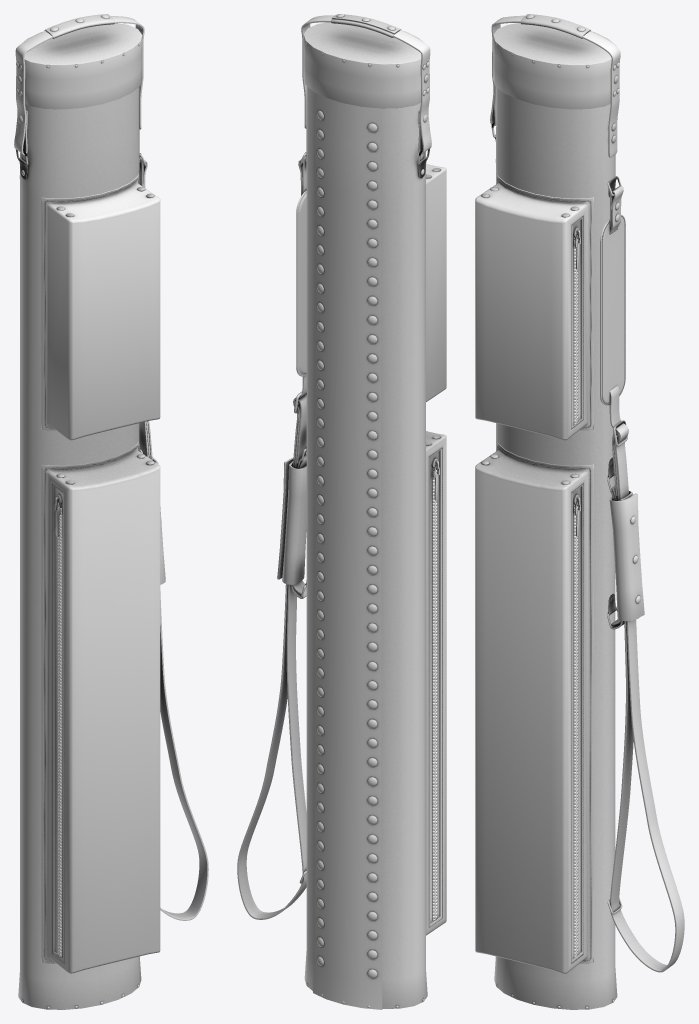
The model's file is 3D Cue Case.glb.
The picture shows the model from 3 angles, left to right: view 1: azimuth 30°, elevation 25°; view 2: azimuth 150°, elevation 25°; view 3: azimuth 330°, elevation 25°; orthographic projection.
Parts seen in each view (by area): view 1: Large_Pocket, Body_part, small_pocket, lid, shoulder_strap, Zip_1, Top_Handle, stich_2, stich_1, Top_handle_Grip; view 2: back_part, Body_part, Large_Pocket, lid, shoulder_strap, Nut, small_pocket, handle_grip, Zip_1, shoulder_strap_01, Top_Handle, stich_2 (+1 smaller); view 3: Large_Pocket, Body_part, small_pocket, shoulder_strap, lid, shoulder_strap_01, handle_grip, Zip, Top_Handle, stich_2, zip, Top_handle_Grip (+1 smaller).
Part boxes in pixels (box(x1,y1,x2,y2)): Large_Pocket: box(41, 441, 160, 973); Body_part: box(18, 87, 141, 1009); small_pocket: box(41, 174, 160, 440); lid: box(22, 23, 142, 109); shoulder_strap: box(139, 157, 208, 920); Zip_1: box(57, 506, 61, 956); Top_Handle: box(14, 16, 144, 155); stich_2: box(51, 483, 64, 963); stich_1: box(44, 446, 138, 961); Top_handle_Grip: box(44, 14, 114, 38); back_part: box(313, 92, 382, 1009); Body_part: box(304, 86, 427, 1008); Large_Pocket: box(426, 431, 446, 935); lid: box(303, 22, 423, 108); shoulder_strap: box(237, 156, 306, 919); Nut: box(317, 110, 377, 978); small_pocket: box(426, 164, 446, 401); handle_grip: box(277, 458, 306, 584); Zip_1: box(432, 468, 437, 920); shoulder_strap_01: box(296, 190, 306, 376); Top_Handle: box(301, 15, 431, 154); stich_2: box(429, 447, 442, 927); Large_Pocket: box(475, 441, 593, 973); Body_part: box(494, 87, 617, 1009); small_pocket: box(475, 174, 593, 440); shoulder_strap: box(609, 185, 684, 972); lid: box(493, 23, 616, 109); shoulder_strap_01: box(600, 214, 625, 405); handle_grip: box(609, 491, 644, 621); Zip: box(574, 504, 578, 957); Top_Handle: box(490, 15, 620, 157); stich_2: box(571, 483, 583, 963); zip: box(574, 237, 578, 423); Top_handle_Grip: box(520, 14, 590, 38).
Size of the model in its own units: 0.323 by 1.6 by 0.182.
Materials: 1 (1 with a texture image).
